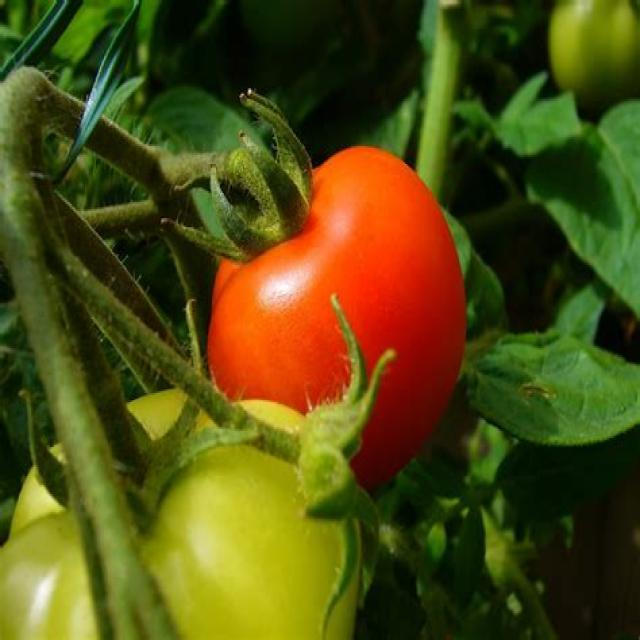Tomato: (205, 146, 470, 496)
